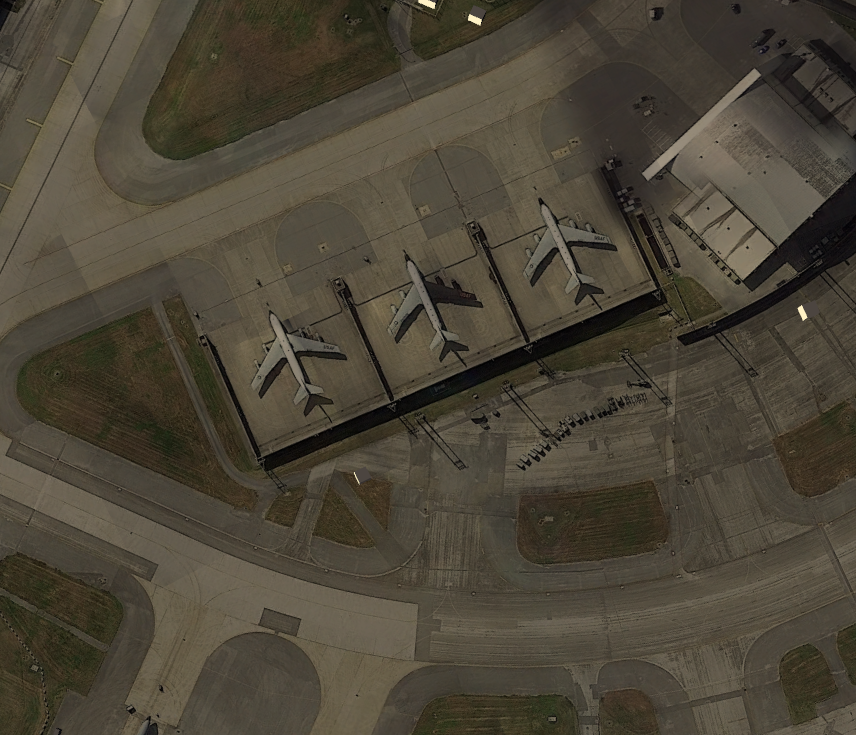A11: (383, 244, 487, 353), (246, 306, 349, 412), (521, 192, 614, 302)
